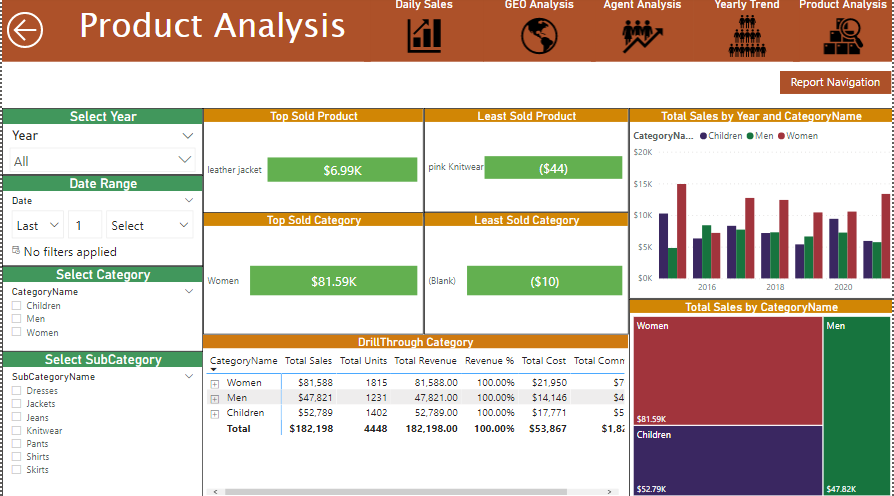

What the dashboard file says about the page in this screenshot:
{"tool":"powerbi","page":{"name":"Product Analysis","canvas":[1280,720],"ordinal":3},"visuals":[{"type":"funnel","title":"Top Sold Product","fields":{"Category":["DimProducts.ProductName"],"Y":["FactSales.Total Sales"]},"box":[288.9,186.8,317.6,149.5],"z":0},{"type":"treemap","title":"Sales by CategoryName","fields":{"Group":["DimCategories.CategoryName","DimSubCategories.SubCategoryName","DimProducts.ProductName"],"Values":["FactSales.Total Sales"]},"box":[904,186.8,373.7,298.9],"z":1000},{"type":"slicer","title":"Date Range","fields":{"Values":["DimDate.Date"]},"box":[0,186.5,288.9,149.5],"z":2000},{"type":"actionButton","title":"Product Analysis","box":[1136.8,0,143.7,80.5],"z":3000},{"type":"actionButton","title":"Yearly Trend","box":[994.5,0,152.3,80.5],"z":4000},{"type":"actionButton","title":"Agent Analysis","box":[846.5,0,148,80.5],"z":5000},{"type":"actionButton","title":"GEO Analysis","box":[691.3,0,162.4,80.5],"z":6000},{"type":"actionButton","title":"Daily Sales","box":[520.2,0,172.5,80.5],"z":7000},{"type":"slicer","title":"Select Category","fields":{"Values":["DimCategories.CategoryName"]},"box":[0,336,288.9,134.4],"z":8000},{"type":"slicer","title":"Select SubCategory","fields":{"Values":["DimSubCategories.SubCategoryName"]},"box":[0,470.3,288.9,250.3],"z":9000},{"type":"textbox","box":[0,0,530.3,80.5],"z":10000},{"type":"lineClusteredColumnComboChart","fields":{"Category":["DimDate.Year Hierarchy.Year","DimDate.Year Hierarchy.Month","DimDate.Year Hierarchy.Day"],"Y":["FactSales.Total Sales"],"Series":["DimCategories.CategoryName"]},"box":[901.1,485.7,379.4,234.3],"z":11000},{"type":"actionButton","box":[0,14.4,100.6,66.1],"z":12000},{"type":"pivotTable","title":"DrillThrough Category","fields":{"Rows":["DimCategories.CategoryName","DimSubCategories.SubCategoryName"],"Values":["FactSales.Total Sales","FactSales.Total Units","FactSales.Total Revenue","FactSales.Revenue %","FactSales.Total Cost","FactSales.Total Commission"]},"box":[288.9,484.3,612.2,235.7],"z":13000},{"type":"funnel","title":"Top Sold Category","fields":{"Category":["DimCategories.CategoryName"],"Y":["FactSales.Total Sales"]},"box":[606.5,186.8,297.5,149.5],"z":14000},{"type":"funnel","title":"Least Sold Product","fields":{"Category":["DimProducts.ProductName"],"Y":["FactSales.Total Sales"]},"box":[288.9,336.3,317.6,148],"z":15000},{"type":"funnel","title":"Least Sold Category","fields":{"Category":["DimCategories.CategoryName"],"Y":["FactSales.Total Sales"]},"box":[606.5,336.3,297.5,148],"z":16000},{"type":"slicer","title":"Select Year","fields":{"Values":["DimDate.Year"]},"box":[0,90.5,1280.5,96.3],"z":17000}]}

Visuals, with their boxes in screenshot pixels (x1, y1, x2, y2), scaled from the page's 1280x720 canvas onto the 894x496 screenshot:
"Top Sold Product" funnel: [left=202, top=129, right=424, bottom=232]
"Sales by CategoryName" treemap: [left=631, top=129, right=892, bottom=335]
"Date Range" slicer: [left=0, top=128, right=202, bottom=231]
"Product Analysis" actionButton: [left=794, top=0, right=893, bottom=55]
"Yearly Trend" actionButton: [left=695, top=0, right=801, bottom=55]
"Agent Analysis" actionButton: [left=591, top=0, right=695, bottom=55]
"GEO Analysis" actionButton: [left=483, top=0, right=596, bottom=55]
"Daily Sales" actionButton: [left=363, top=0, right=484, bottom=55]
"Select Category" slicer: [left=0, top=231, right=202, bottom=324]
"Select SubCategory" slicer: [left=0, top=324, right=202, bottom=495]
textbox: [left=0, top=0, right=370, bottom=55]
lineClusteredColumnComboChart - DimDate.Year Hierarchy.Year x DimDate.Year Hierarchy.Month: [left=629, top=335, right=893, bottom=495]
actionButton: [left=0, top=10, right=70, bottom=55]
"DrillThrough Category" pivotTable: [left=202, top=334, right=629, bottom=495]
"Top Sold Category" funnel: [left=424, top=129, right=631, bottom=232]
"Least Sold Product" funnel: [left=202, top=232, right=424, bottom=334]
"Least Sold Category" funnel: [left=424, top=232, right=631, bottom=334]
"Select Year" slicer: [left=0, top=62, right=893, bottom=129]
